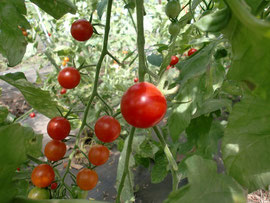tomato: (120, 81, 168, 129), (94, 114, 122, 143), (30, 162, 55, 188), (46, 116, 73, 140), (75, 168, 99, 191), (70, 19, 93, 42), (58, 67, 82, 89), (88, 144, 111, 166), (44, 140, 68, 161), (70, 183, 88, 201), (27, 188, 51, 199)
